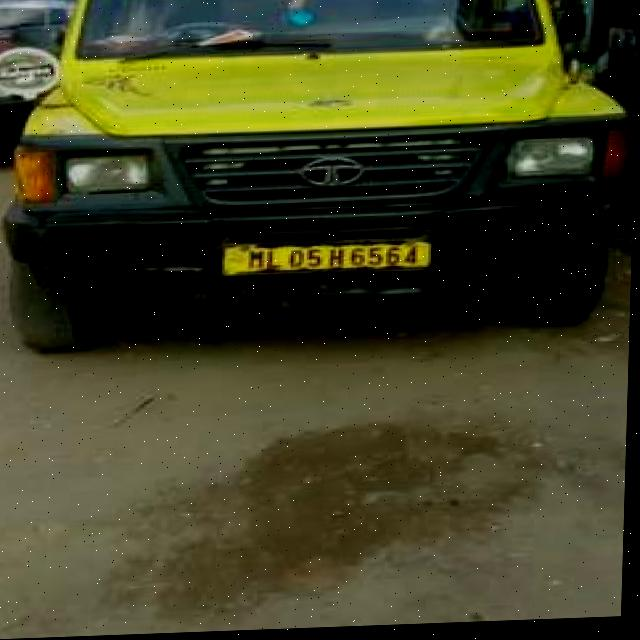plate: (219, 242, 439, 281)
